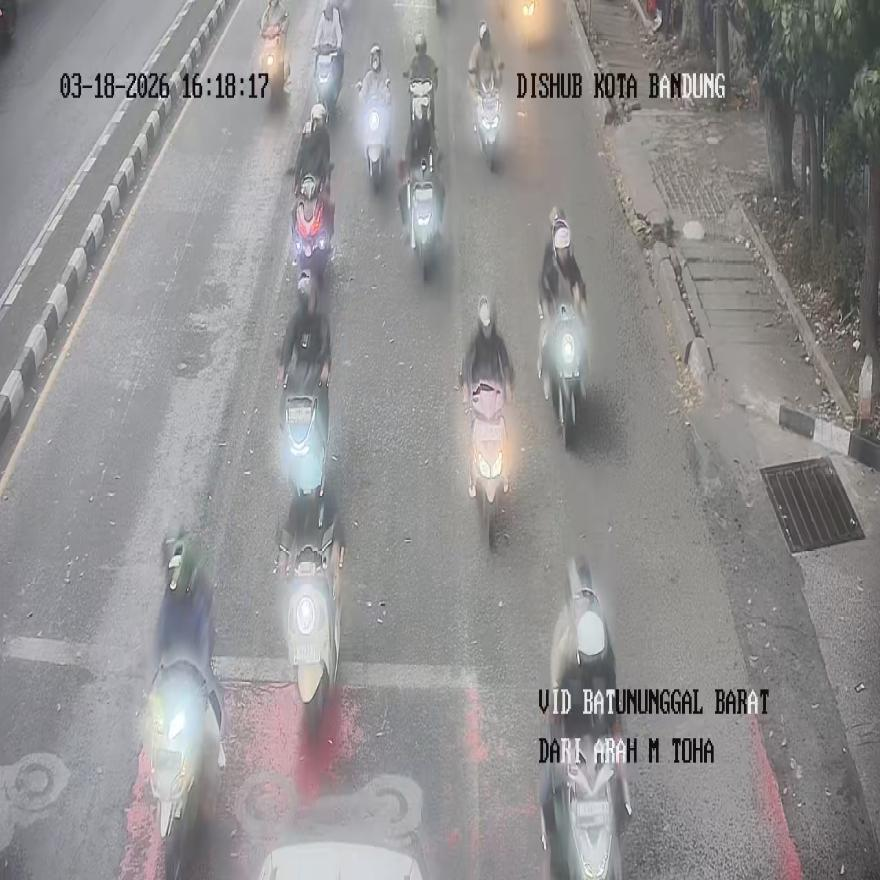Truk: (139, 529, 225, 878), (538, 556, 630, 878), (276, 508, 343, 736), (280, 362, 328, 528), (468, 379, 507, 550), (540, 305, 586, 448), (291, 162, 334, 294), (405, 156, 443, 282), (359, 78, 390, 191), (473, 63, 503, 168), (407, 74, 435, 174), (258, 16, 289, 101), (314, 42, 343, 122)
